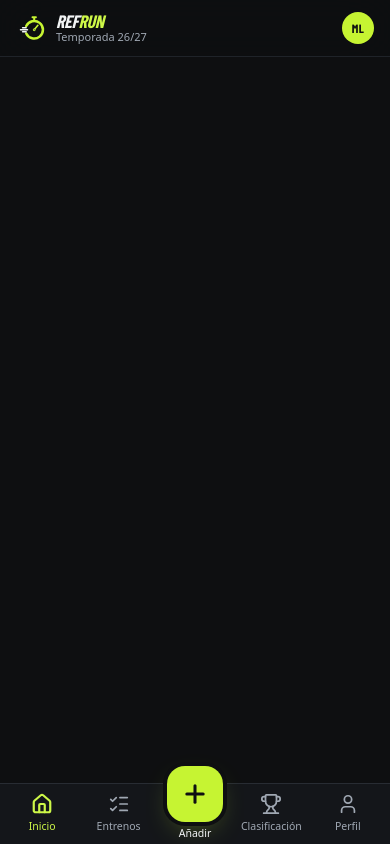
navegación › el menú de usuario ofrece las opciones secundarias y cerrar sesión
Click the button with aria-label "Menú de usuario" at x=358, y=28, box [342,12,374,44]
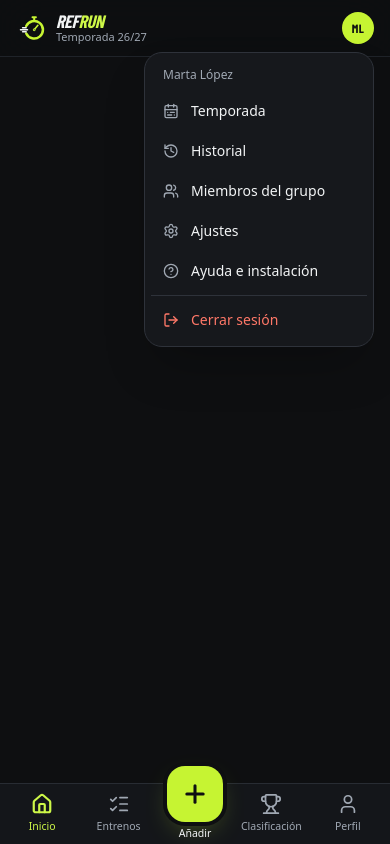
expect the menu item "Temporada" is shown: met, box [163,101,266,120]
expect the menu item "Historial" is shown: met, box [163,141,246,160]
expect the menu item "Miembros del grupo" is shown: met, box [163,181,325,200]
